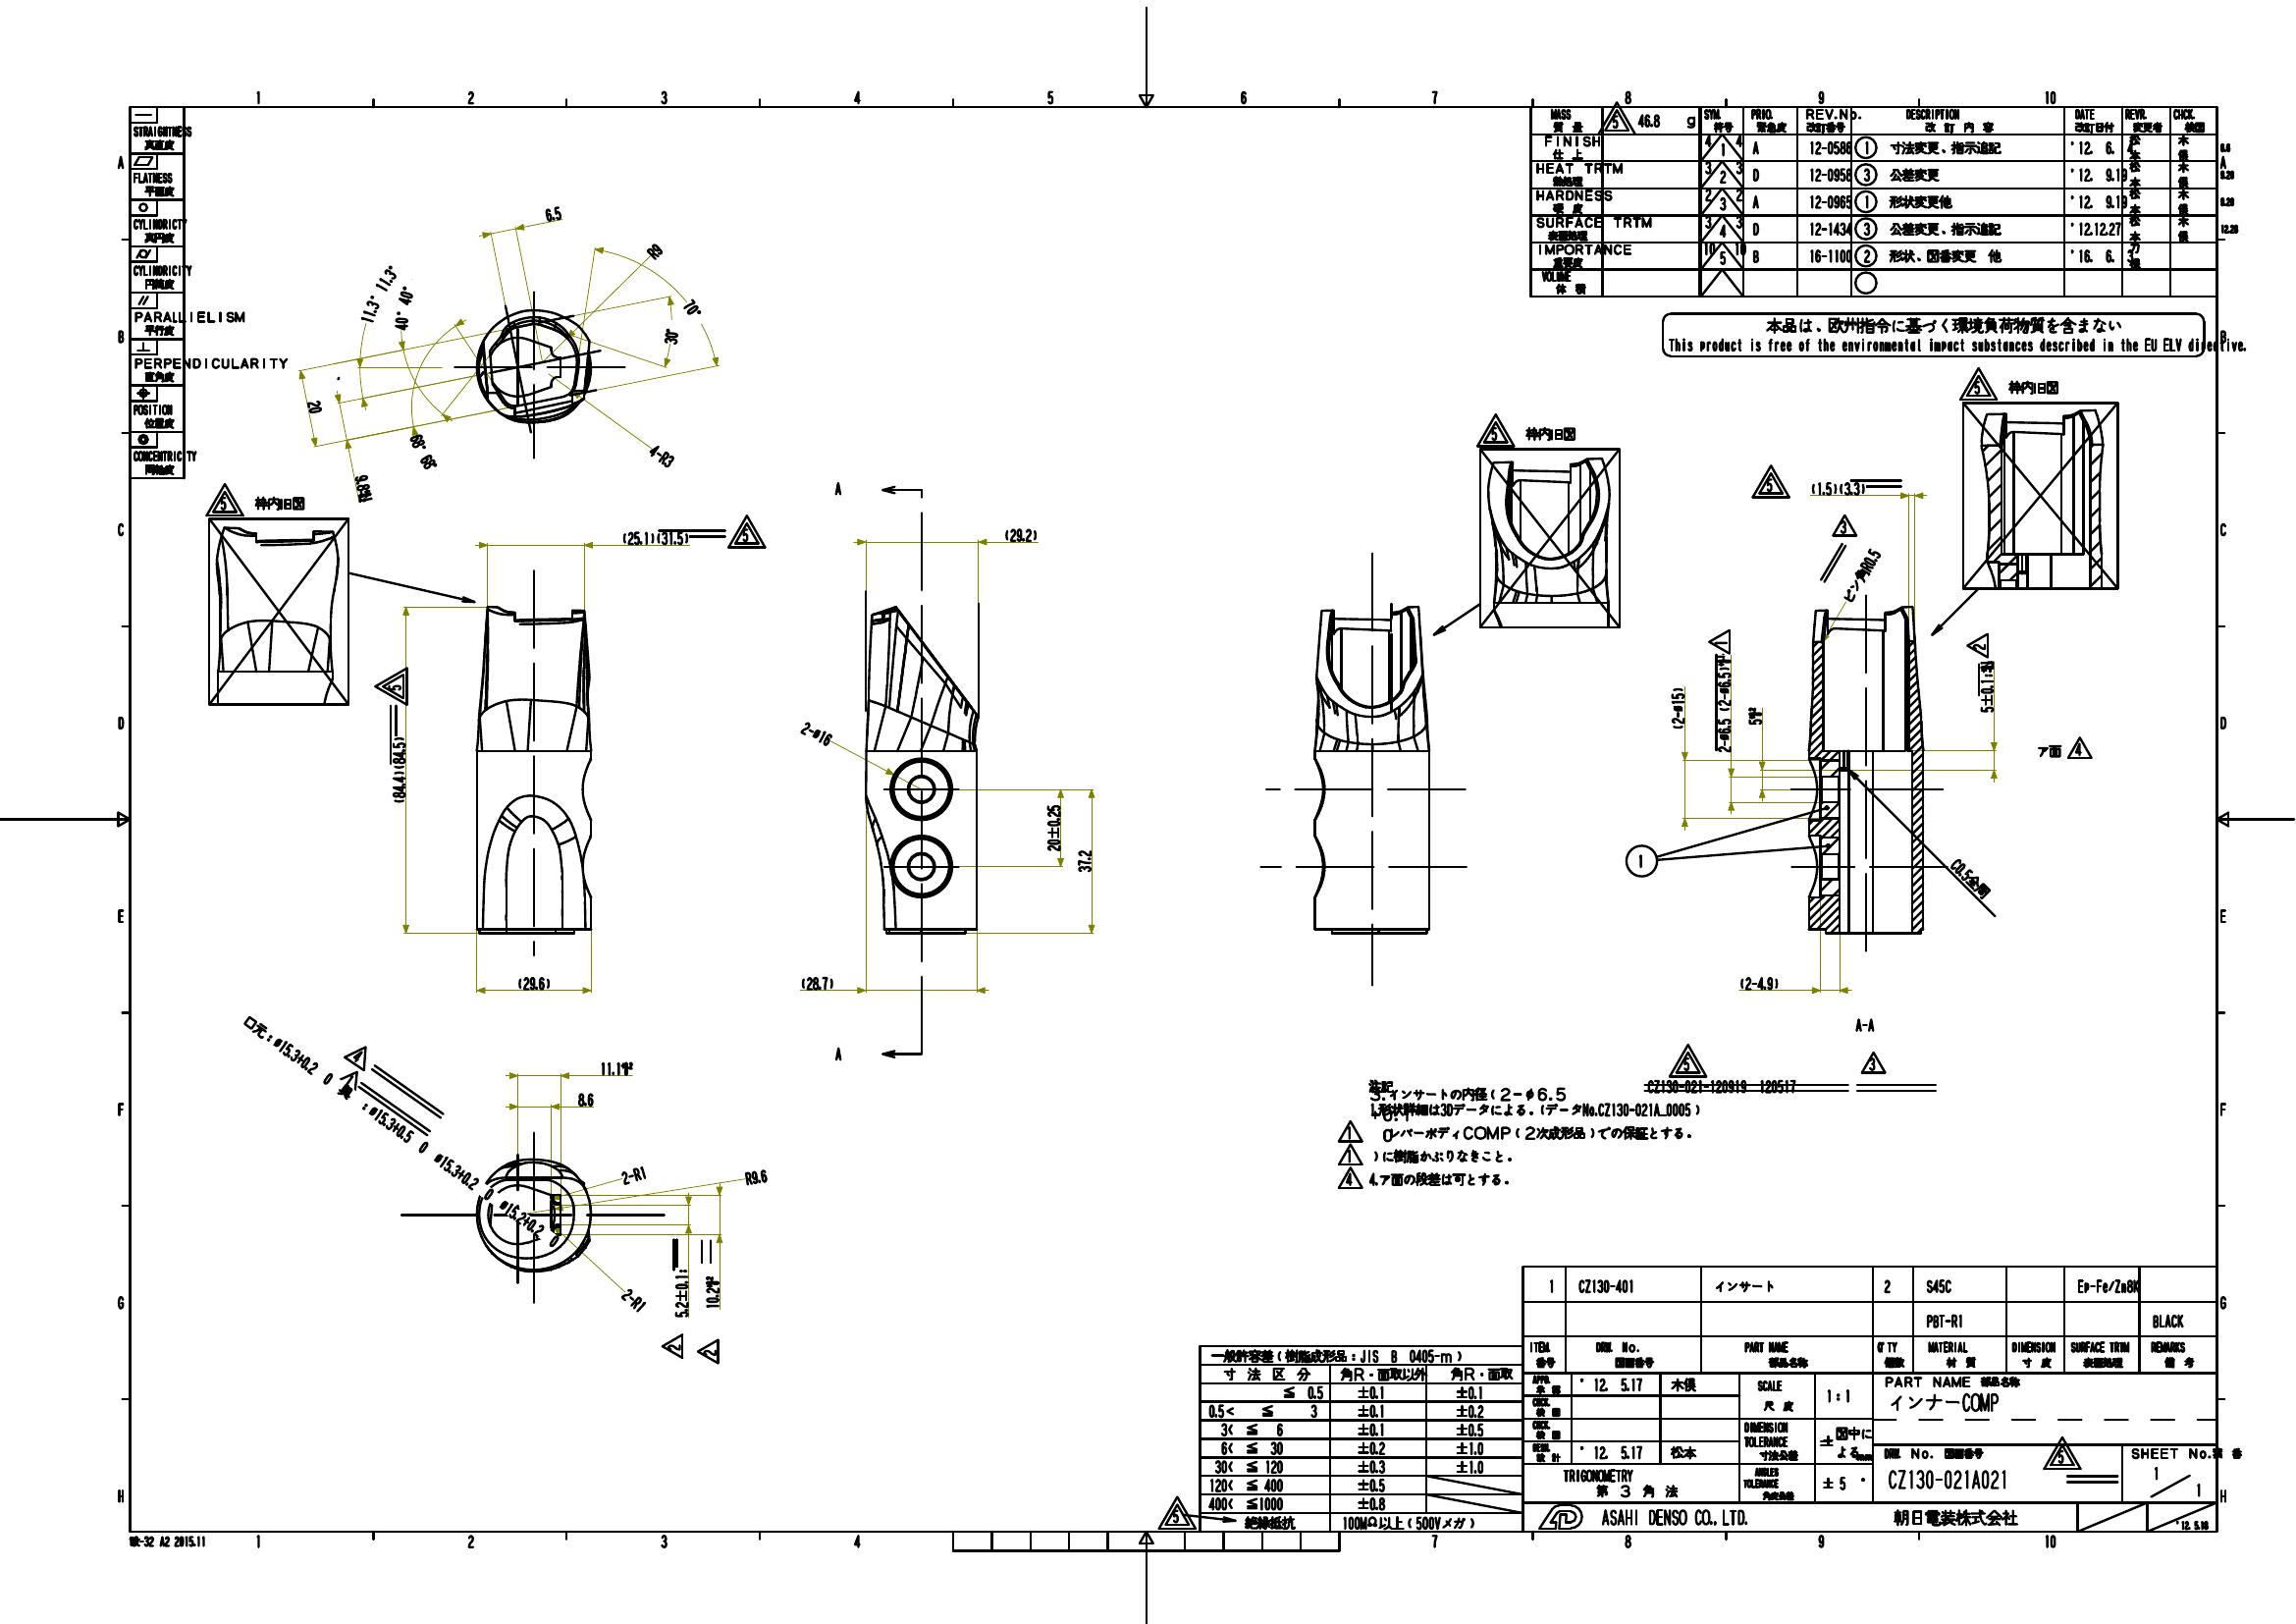anntotation_text: (1367, 1076, 1700, 1190), (1660, 311, 2247, 359), (726, 513, 769, 550), (1156, 1492, 1196, 1531), (1667, 1040, 1708, 1079), (372, 666, 409, 708), (1474, 413, 1518, 448), (202, 482, 246, 517), (1750, 462, 1790, 499), (1957, 366, 1999, 401), (1523, 422, 1579, 443), (1623, 844, 1658, 877), (253, 492, 306, 513), (128, 1533, 206, 1547), (2004, 380, 2061, 397), (694, 1338, 720, 1367), (1859, 1049, 1887, 1076), (2066, 735, 2092, 761), (1337, 1120, 1365, 1144), (1708, 629, 1732, 656), (1830, 513, 1857, 538), (346, 1042, 372, 1067), (1337, 1167, 1363, 1190), (1966, 631, 1989, 657), (661, 1332, 683, 1359), (1339, 1144, 1363, 1165), (2036, 743, 2061, 759), (1852, 1016, 1874, 1032), (829, 1044, 845, 1060), (831, 478, 843, 497)
dimension_text: (207, 1120, 596, 1141), (1713, 652, 1732, 756), (388, 733, 406, 805), (620, 529, 690, 547), (344, 285, 413, 302), (1976, 659, 1997, 714), (1830, 566, 1890, 584), (1808, 478, 1867, 496), (1946, 868, 1996, 889), (378, 299, 430, 316), (671, 1267, 689, 1320), (1043, 800, 1061, 852), (701, 1272, 724, 1311), (1667, 685, 1685, 729), (402, 443, 444, 460), (1737, 974, 1780, 991), (599, 1058, 634, 1077), (1003, 524, 1038, 543), (513, 974, 550, 991), (353, 471, 372, 503), (798, 975, 836, 991), (798, 726, 836, 742), (1743, 705, 1765, 729), (620, 1165, 650, 1183), (646, 448, 678, 464), (740, 1169, 771, 1185), (1075, 847, 1093, 874), (620, 1292, 648, 1308), (541, 206, 564, 223), (573, 1090, 596, 1107), (306, 399, 321, 415)
object: (474, 601, 594, 935), (1806, 603, 1925, 935), (1312, 605, 1432, 935), (863, 605, 980, 939), (1978, 408, 2105, 591), (214, 524, 341, 705), (1484, 455, 1609, 629), (473, 1156, 594, 1272), (473, 308, 594, 424)
title_block: (1518, 1262, 2219, 1534), (1527, 104, 2219, 299), (1196, 1343, 1525, 1534), (128, 104, 184, 482)
